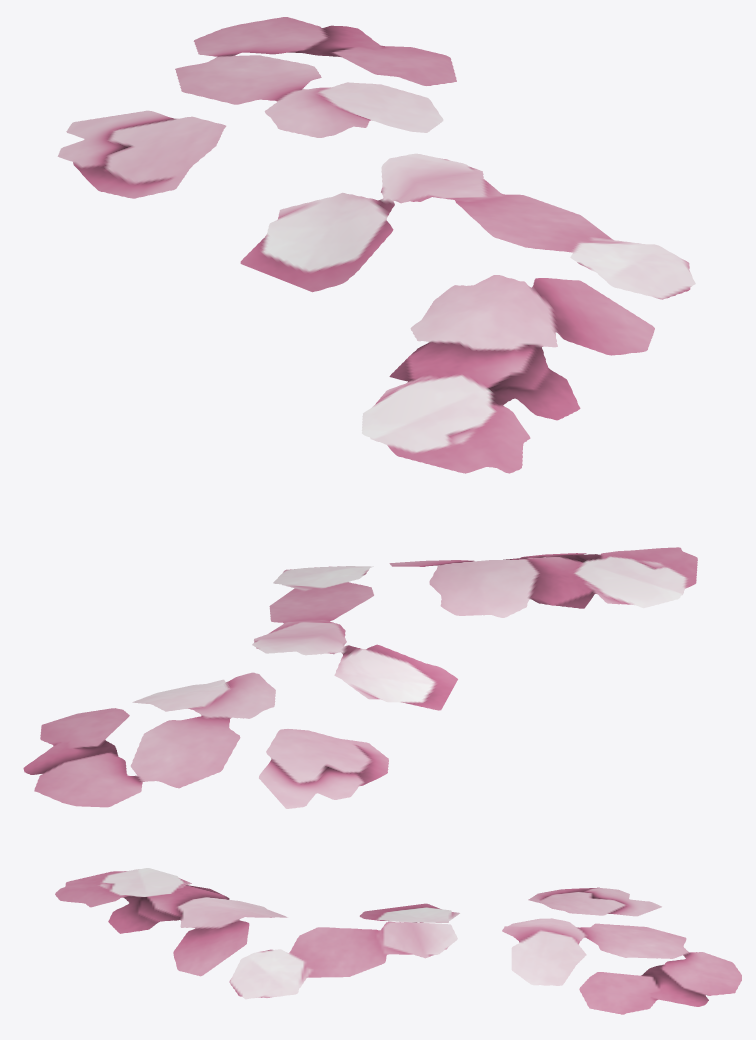
The model's file is SM_Env_CherryBlossom_Small_02.fbx.
3 renders of one model, top to bottom at view 1: azimuth 30°, elevation 25°; view 2: azimuth 150°, elevation 25°; view 3: azimuth 270°, elevation 25°, orthographic. The views are drawn at different scales.
Parts seen in each view (by area): view 1: SM_Env_CherryBlossom_Small_02; view 2: SM_Env_CherryBlossom_Small_02; view 3: SM_Env_CherryBlossom_Small_02.
Boxes of the visible parts, x1,y1,x2,y2 form: SM_Env_CherryBlossom_Small_02: (57, 17, 695, 473); SM_Env_CherryBlossom_Small_02: (23, 547, 697, 808); SM_Env_CherryBlossom_Small_02: (55, 868, 741, 1014).
Bounding box in the file's own units: 49.42 × 4.34 × 89.44.
